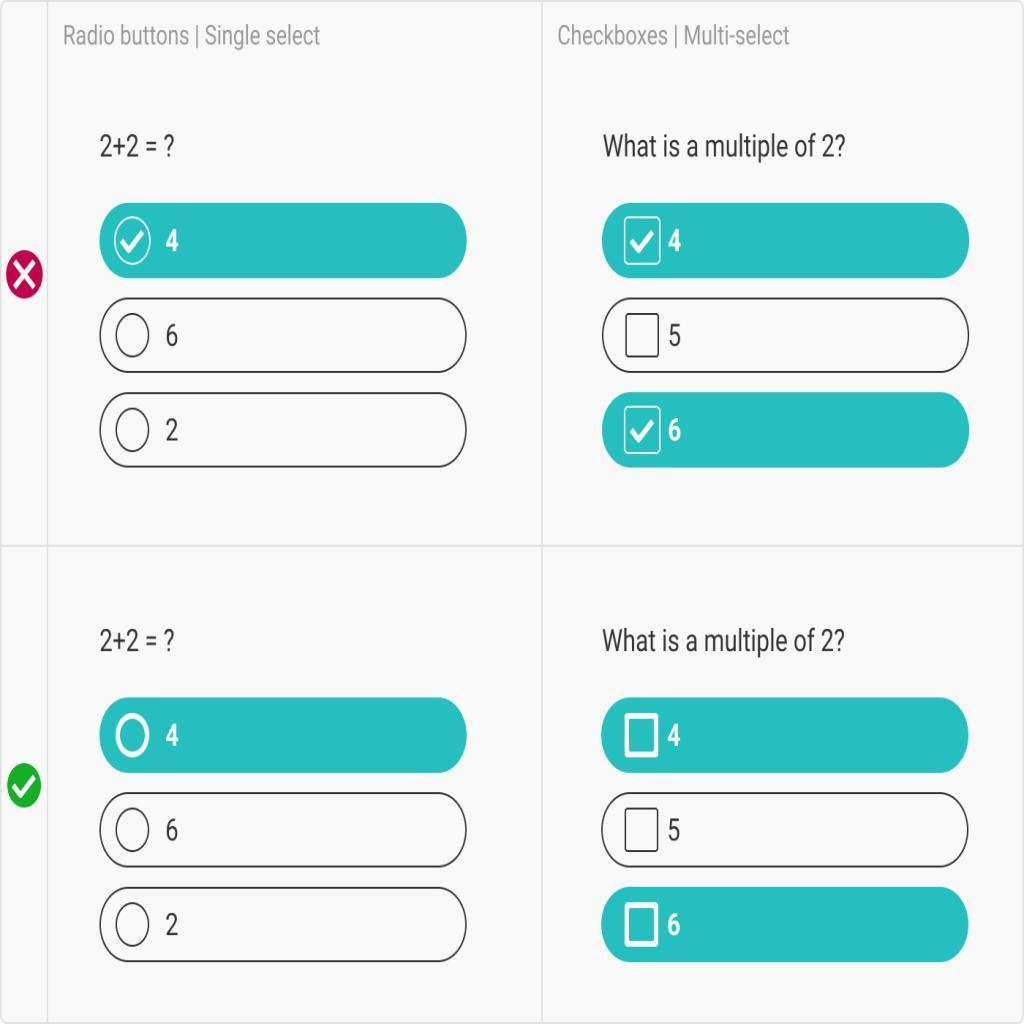checkbox: (624, 215, 664, 268), (626, 405, 662, 454), (625, 313, 661, 359), (625, 904, 659, 947), (626, 714, 659, 757), (626, 809, 659, 852)
radio: (115, 214, 154, 267), (114, 807, 151, 855), (115, 313, 152, 360), (116, 407, 152, 454), (116, 901, 149, 950), (117, 716, 150, 759)
